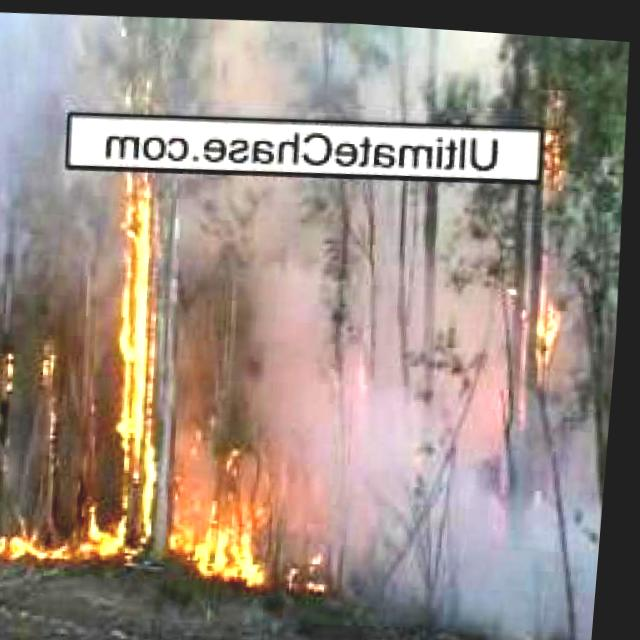Fire: (0, 474, 304, 590), (106, 166, 178, 489), (542, 99, 589, 202), (521, 279, 571, 363), (35, 340, 72, 397), (3, 335, 26, 398)
Smoke: (169, 158, 556, 438), (296, 416, 614, 640), (109, 6, 523, 125), (0, 8, 76, 309)
